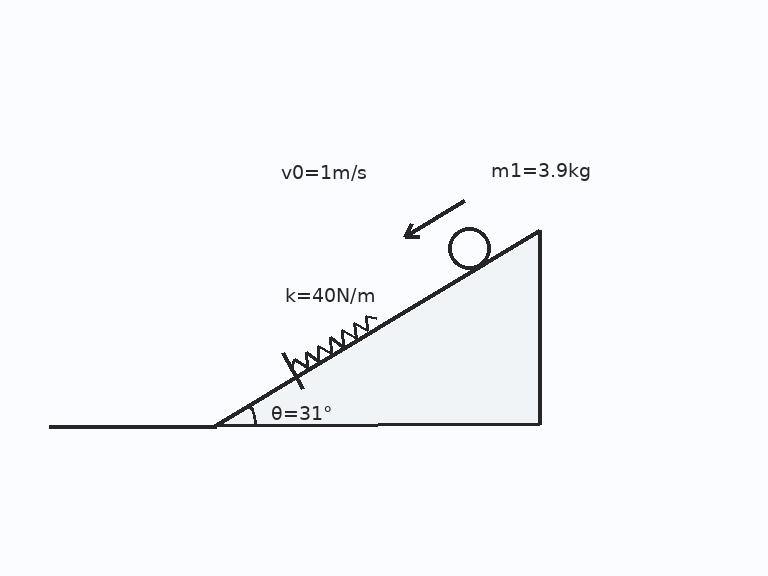ball: (446, 225, 492, 271)
ramp: (213, 228, 541, 427)
spring: (289, 314, 378, 371)
